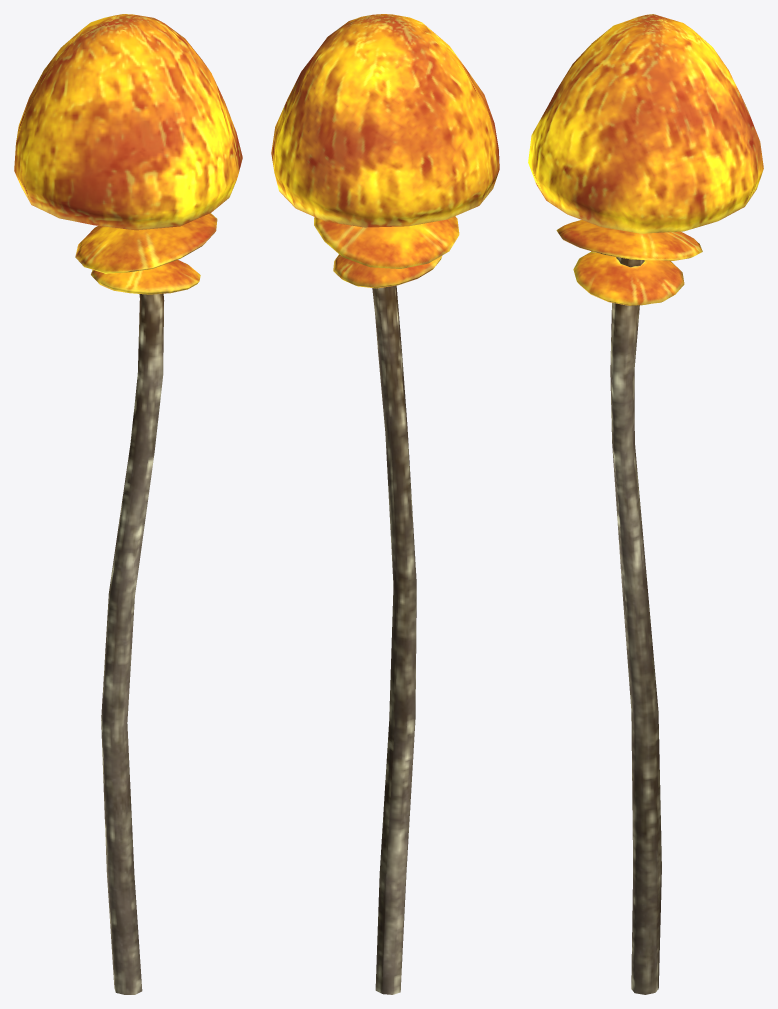
Rendered from 2 grib.fbx.
The picture shows the model from 3 angles, left to right: view 1: azimuth 30°, elevation 25°; view 2: azimuth 150°, elevation 25°; view 3: azimuth 270°, elevation 25°; orthographic projection.
Parts seen in each view (by area): view 1: lp1.003; view 2: lp1.003; view 3: lp1.003.
Part boxes in pixels (x1=…): lp1.003: x1=14, y1=14, x2=242, y2=994; lp1.003: x1=271, y1=14, x2=499, y2=994; lp1.003: x1=528, y1=14, x2=763, y2=994.
Bounding box in the file's own units: 2280 × 10496 × 2318.
